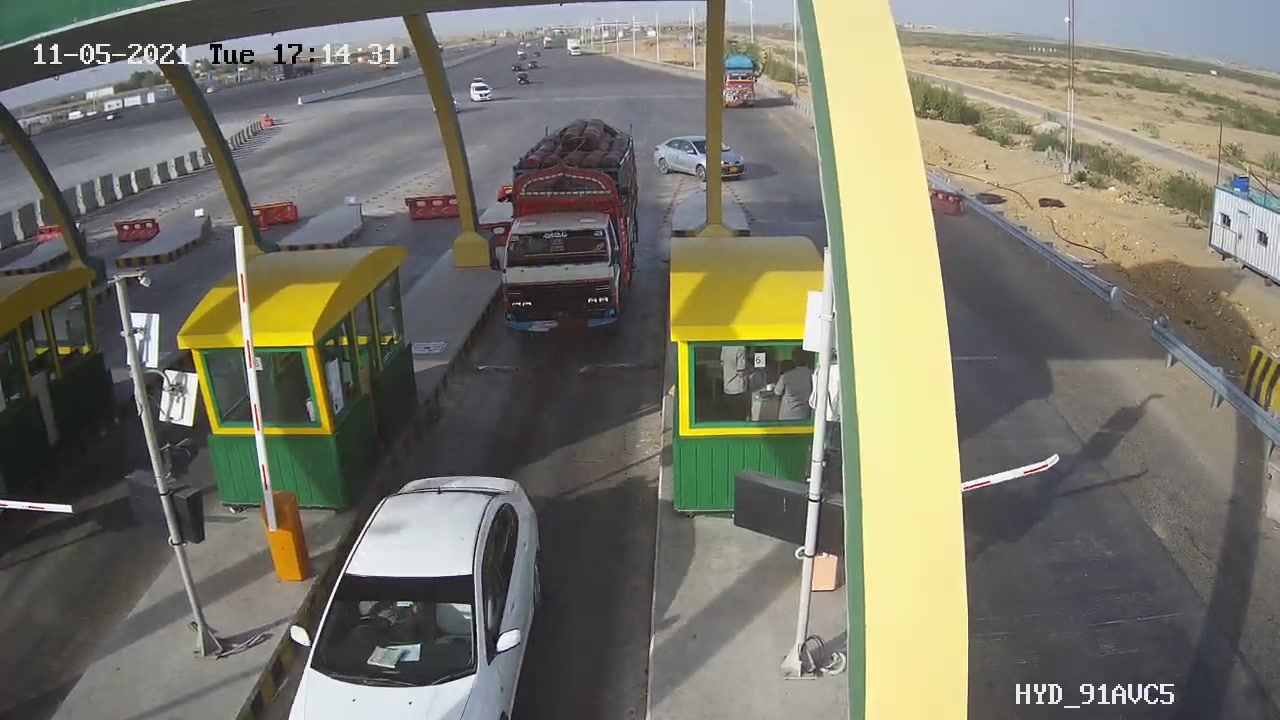F5: (476, 112, 670, 348)
